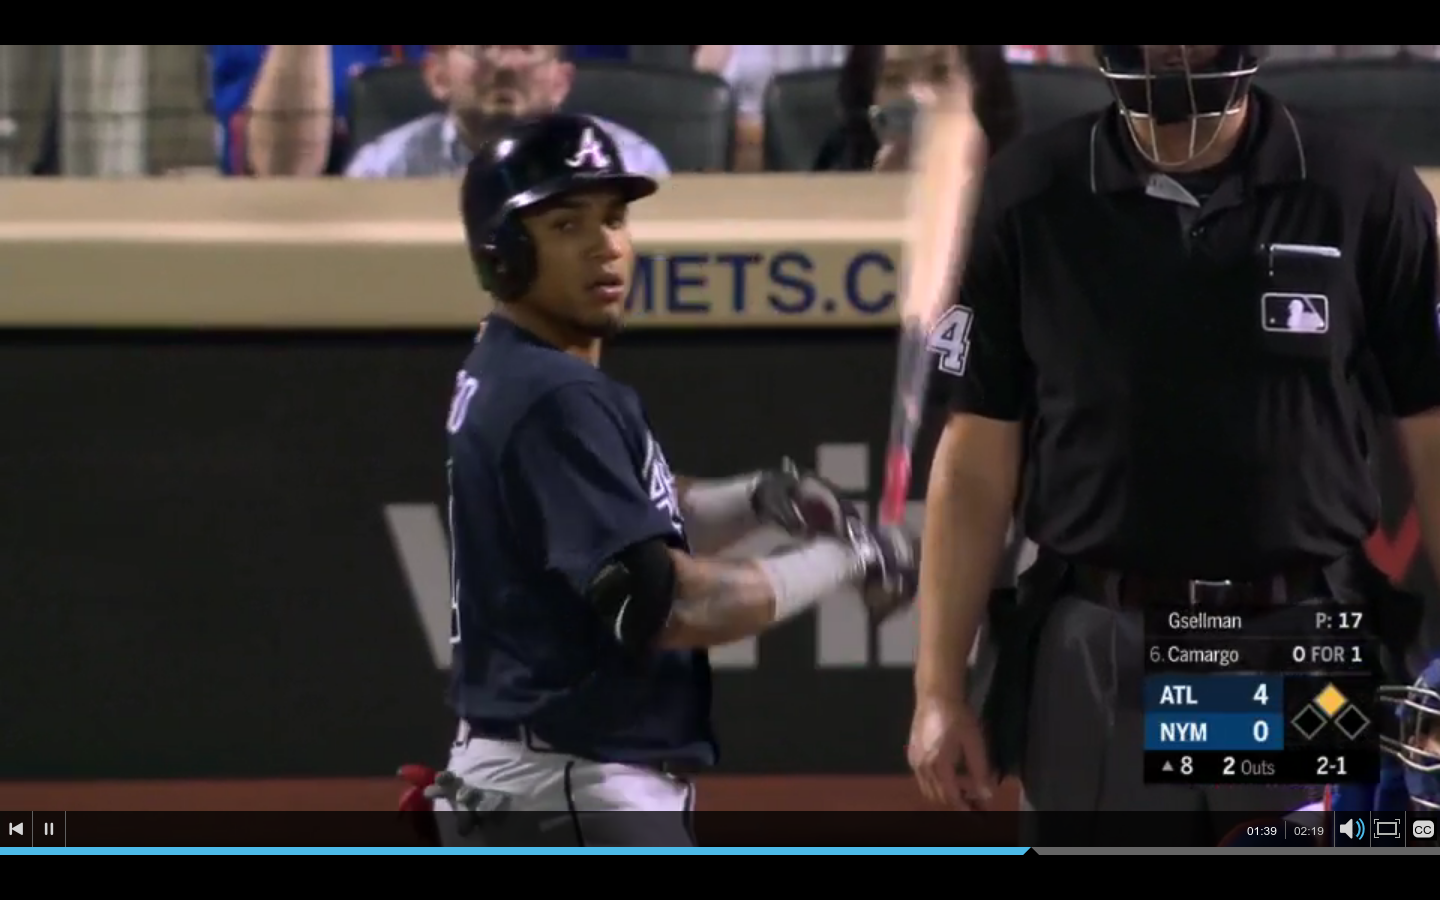baseball bat: (876, 92, 985, 520)
baseball player: (410, 112, 865, 837)
referee: (913, 45, 1440, 811)
